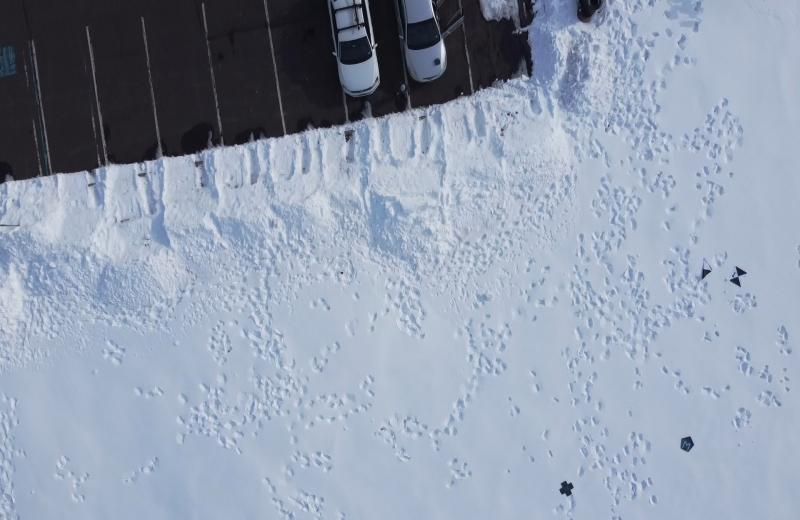Cross: (558, 479, 576, 498)
Pentagon: (678, 435, 696, 454)
